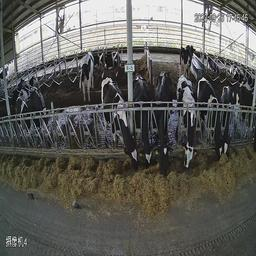cow: (99, 76, 136, 176), (132, 71, 157, 168), (198, 76, 222, 161), (154, 69, 173, 176), (176, 75, 197, 171), (219, 82, 236, 161), (31, 87, 55, 139), (78, 50, 95, 101), (15, 90, 30, 137), (178, 45, 194, 83), (104, 50, 120, 73)
